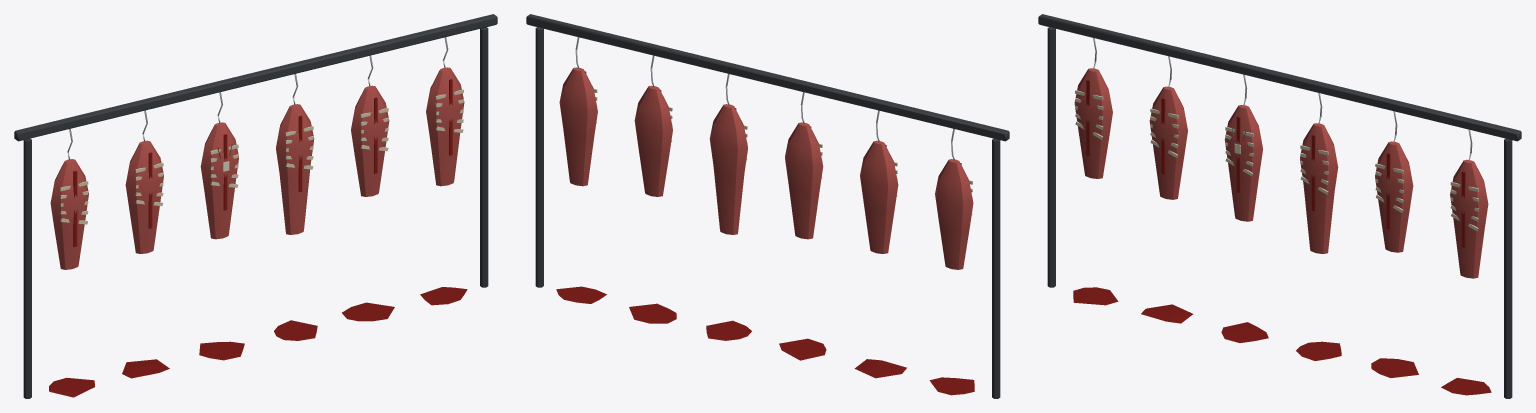
File: hook_rail.glb
3 views of the same model, side by side, from view 1: azimuth 30°, elevation 25°; view 2: azimuth 150°, elevation 25°; view 3: azimuth 330°, elevation 25° (orthographic).
Parts seen in each view (by area): view 1: hook_rail; view 2: hook_rail; view 3: hook_rail.
Boxes of the visible parts, x1,y1,x2,y2 form: hook_rail: (14,14,497,398); hook_rail: (526,14,1009,398); hook_rail: (1038,14,1521,398).
Size of the model in its own units: 8 by 4.27 by 0.7152.
